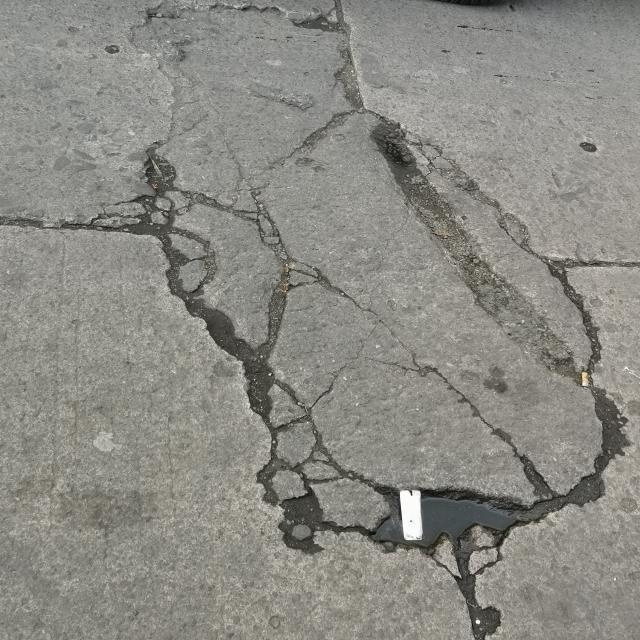pothole: (111, 141, 640, 567)
